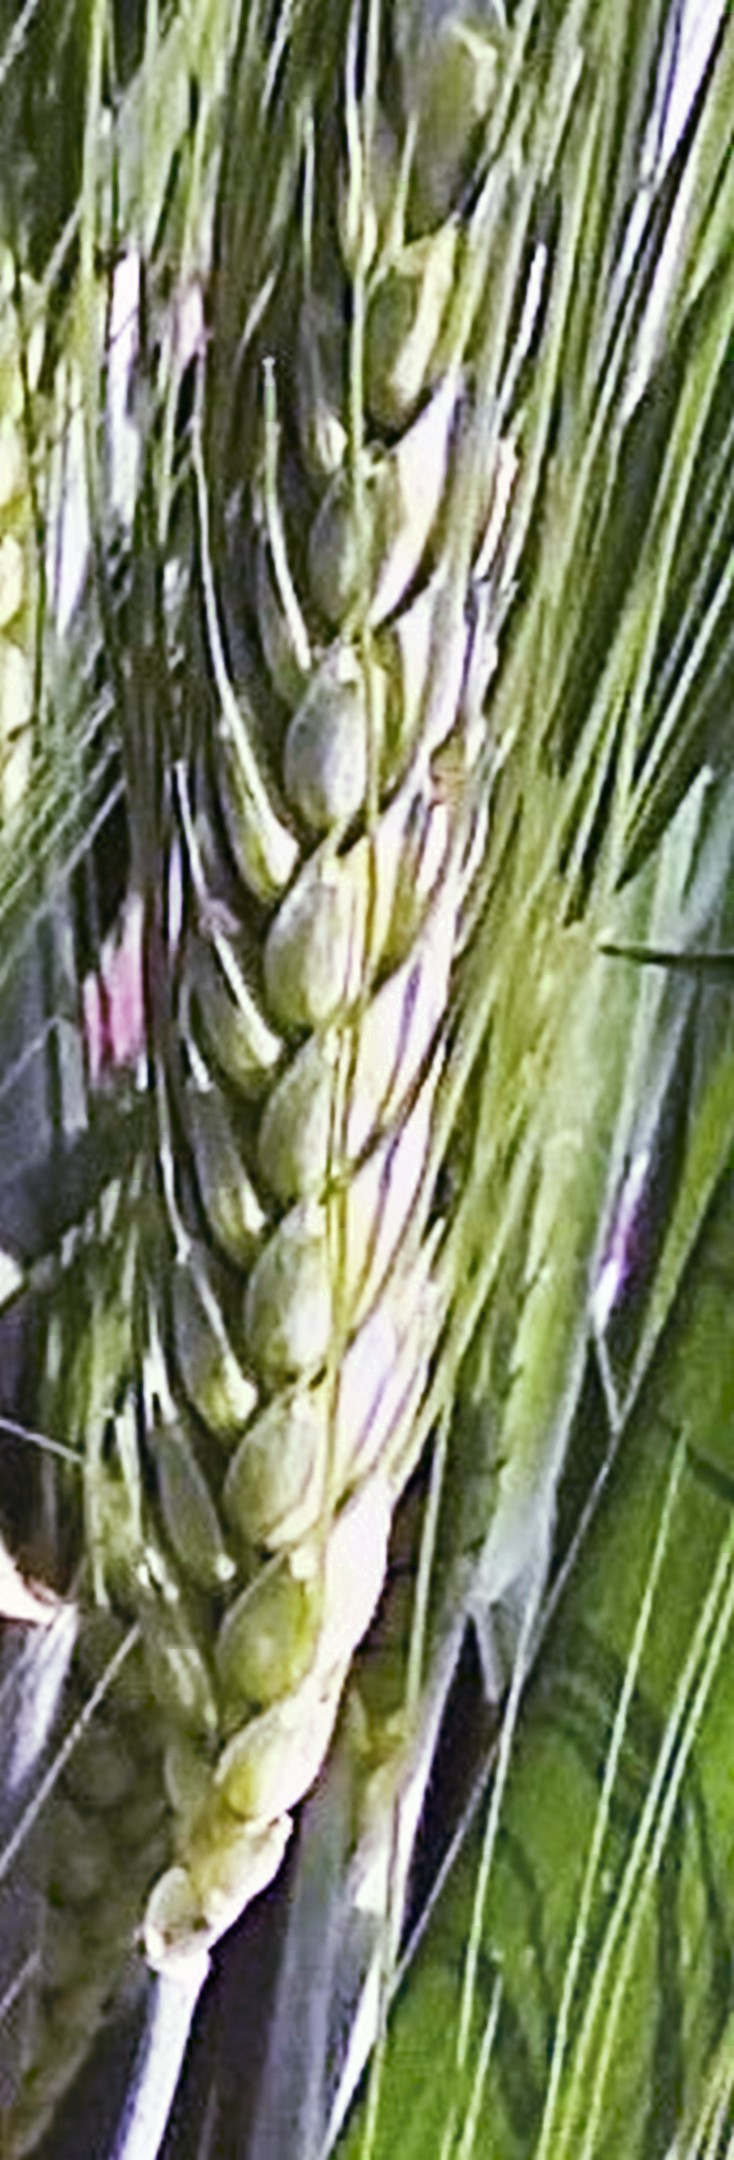Healthy Wheat: (85, 19, 603, 1880)
